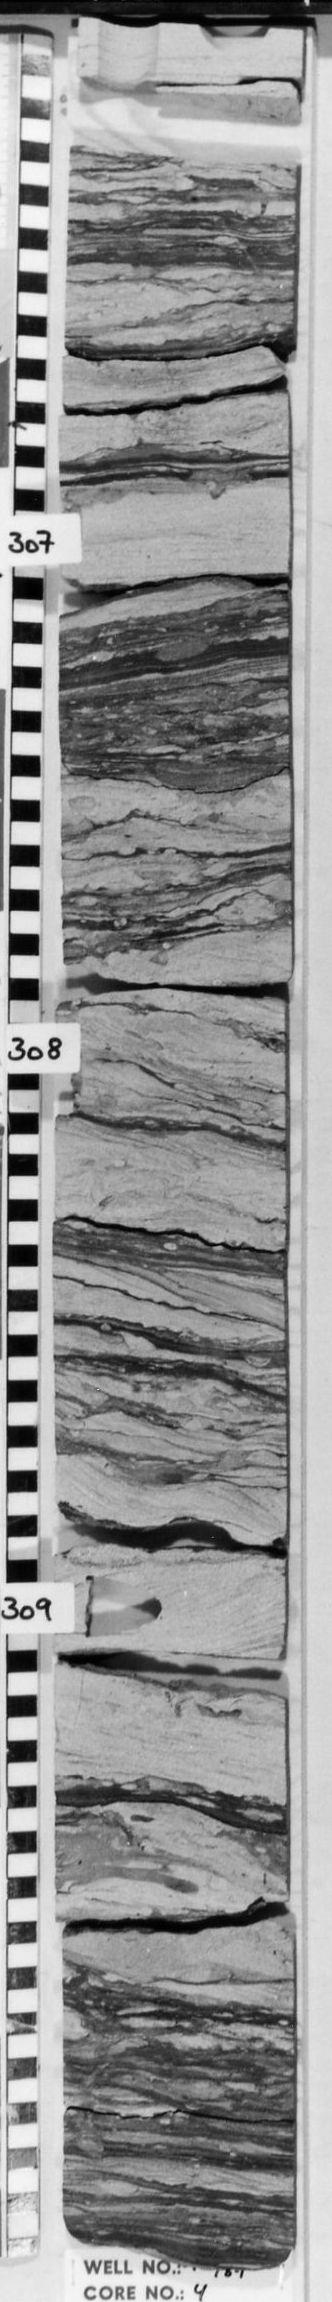hplug: (73, 1569, 184, 1644), (192, 22, 279, 59)
vplug: (93, 18, 175, 90)
